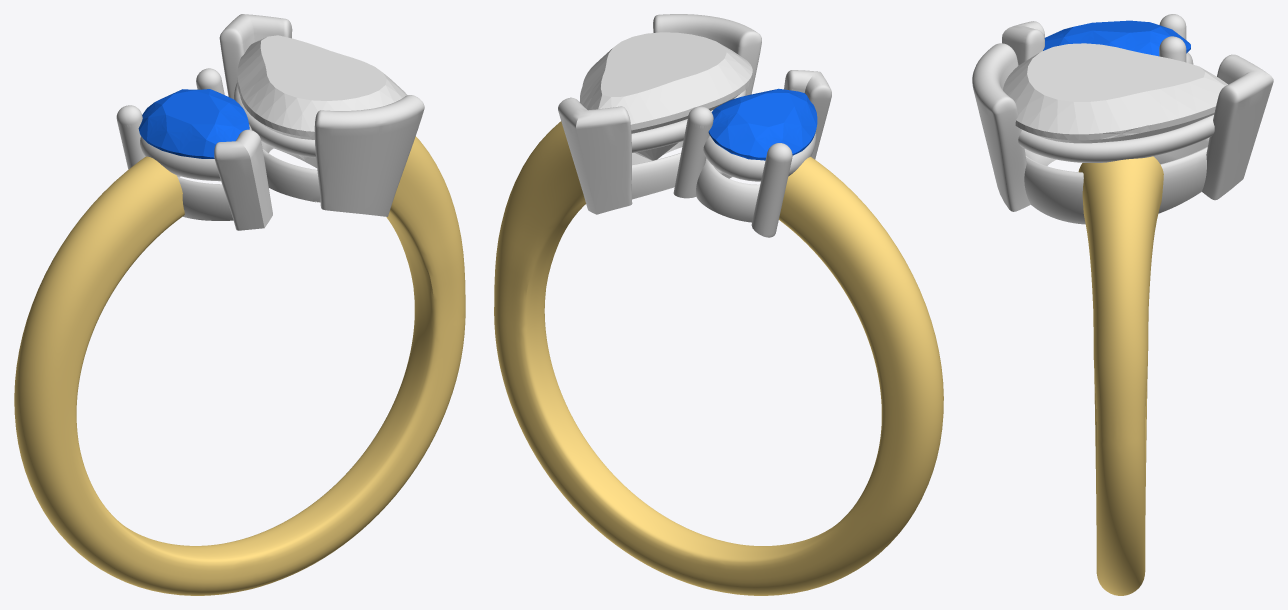
Rendered from NicV6tem_blender.glb.
3 views of the same model, side by side, from view 1: azimuth 30°, elevation 25°; view 2: azimuth 150°, elevation 25°; view 3: azimuth 270°, elevation 25° (orthographic). The views are drawn at different scales.
Visible parts, largest first — view 1: V6 YG for 3d model, V6 PT for 3d model, V5 Nicolas center diamond for 3d model, V5 Nicolas sapphire for 3d model; view 2: V6 YG for 3d model, V6 PT for 3d model, V5 Nicolas center diamond for 3d model, V5 Nicolas sapphire for 3d model; view 3: V6 YG for 3d model, V6 PT for 3d model, V5 Nicolas center diamond for 3d model, V5 Nicolas sapphire for 3d model.
Part boxes in pixels (box(x1,y1,x2,y2)): V6 YG for 3d model: box(14, 136, 465, 595); V6 PT for 3d model: box(116, 14, 424, 230); V5 Nicolas center diamond for 3d model: box(237, 35, 407, 159); V5 Nicolas sapphire for 3d model: box(138, 89, 249, 158); V6 YG for 3d model: box(494, 121, 943, 595); V6 PT for 3d model: box(558, 14, 831, 237); V5 Nicolas center diamond for 3d model: box(580, 32, 752, 160); V5 Nicolas sapphire for 3d model: box(708, 88, 817, 160); V6 YG for 3d model: box(1078, 156, 1163, 595); V6 PT for 3d model: box(972, 14, 1273, 224); V5 Nicolas center diamond for 3d model: box(1003, 43, 1227, 143); V5 Nicolas sapphire for 3d model: box(1043, 20, 1190, 56).
Size of the model in its own units: 19.92 by 21.93 by 11.15.
